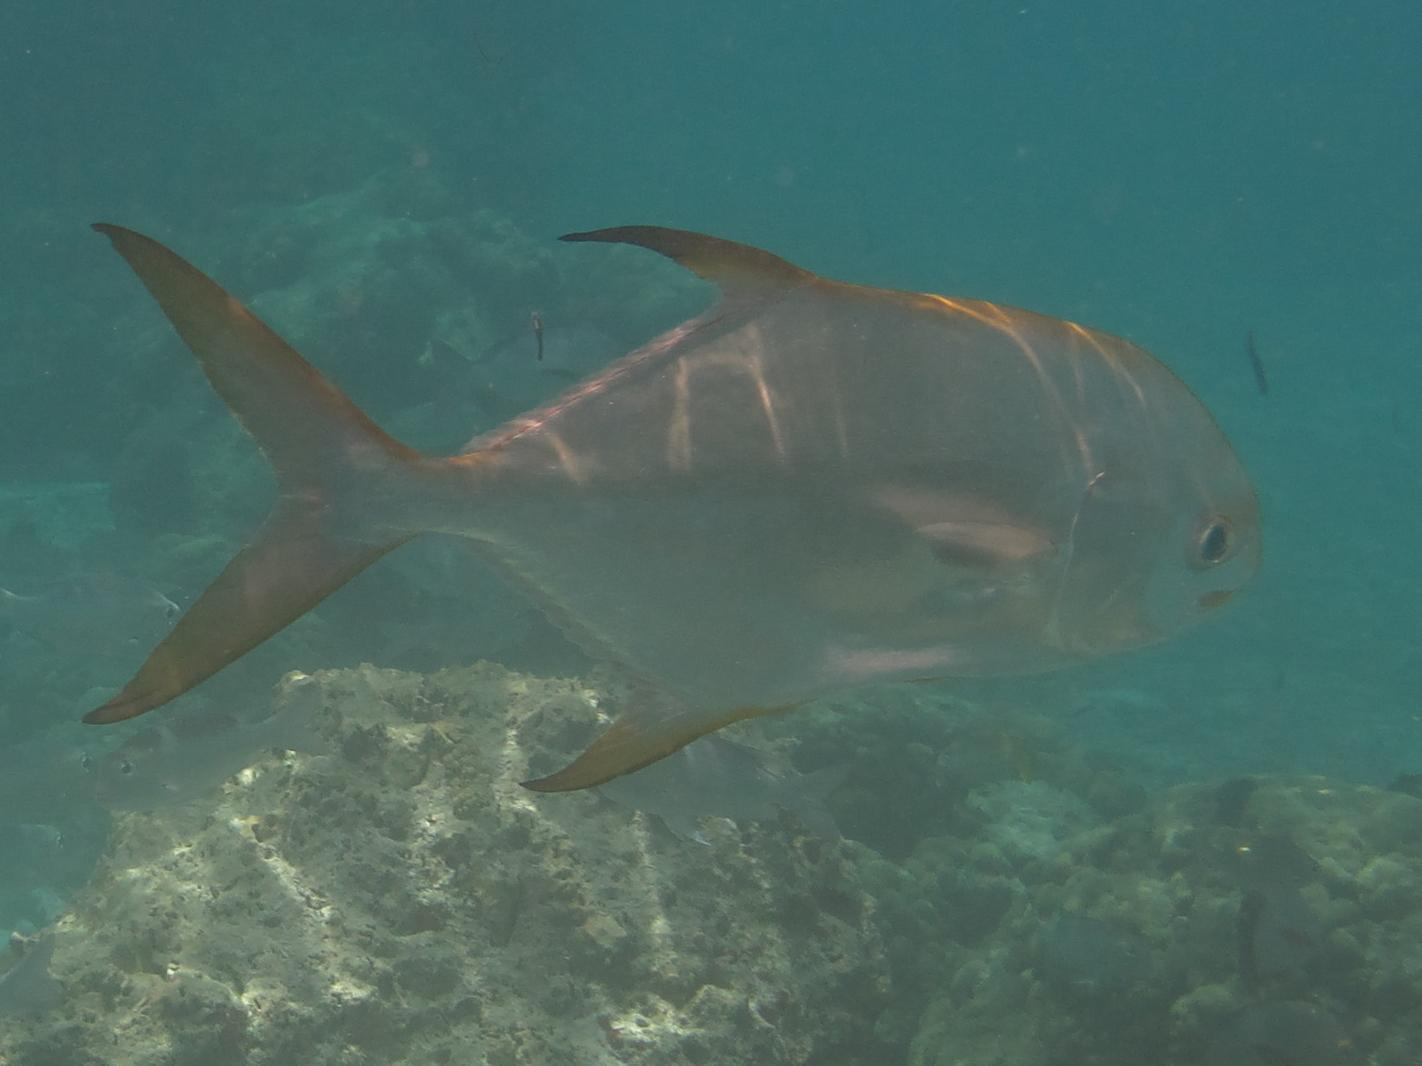Fish: (66, 185, 1300, 803)
